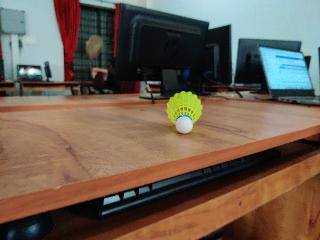shuttlecock: (166, 90, 200, 132)
